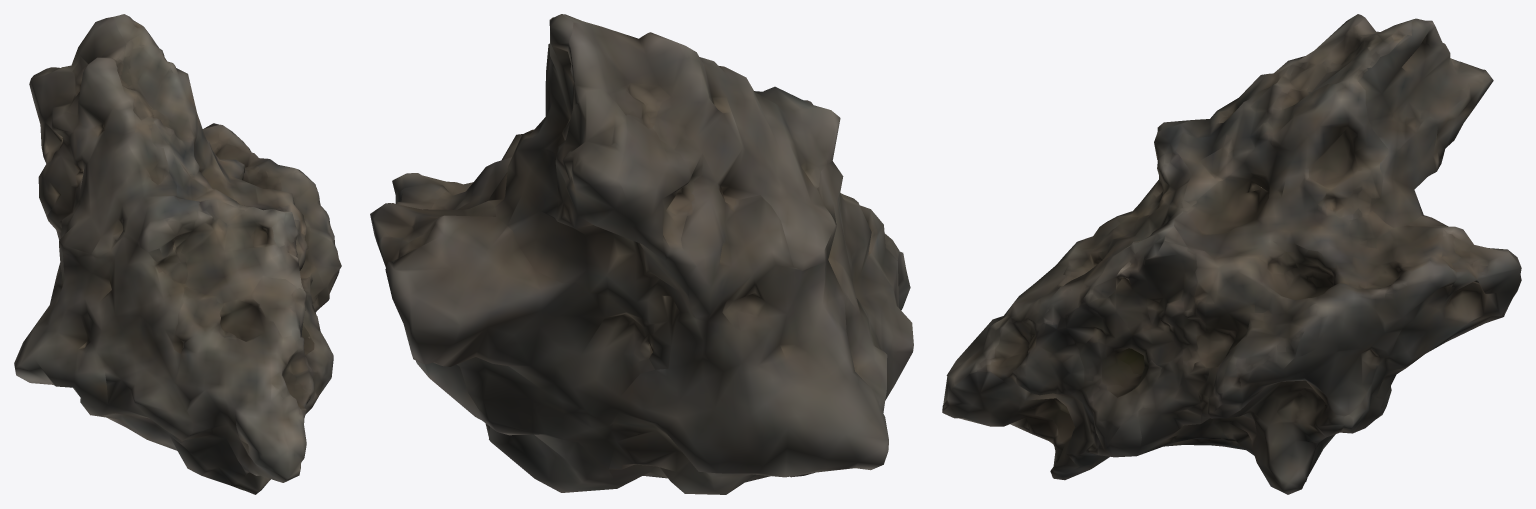
The model's file is asteroid_uncommon_4_lod2.glb.
3 renders of one model, left to right at view 1: azimuth 30°, elevation 25°; view 2: azimuth 150°, elevation 25°; view 3: azimuth 270°, elevation 25°, orthographic. The views are drawn at different scales.
Parts seen in each view (by area): view 1: model; view 2: model; view 3: model.
Boxes of the visible parts, bbox=[...] form: model: bbox=[14, 14, 341, 494]; model: bbox=[370, 14, 913, 494]; model: bbox=[942, 14, 1521, 494].
Bounding box in the file's own units: 1.46 × 1.67 × 1.89.
1 material, 1 textured.
